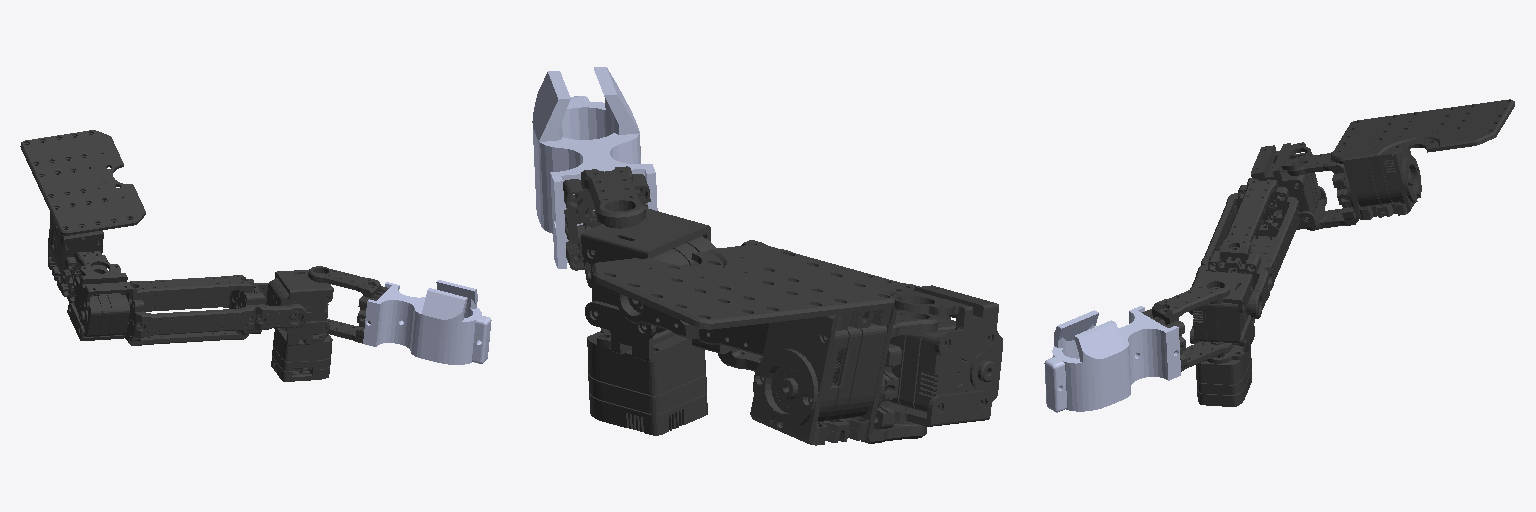
The robot description file, URDF, robot "ping-pong":
<?xml version="1.0" encoding="utf-8"?>
<!-- This URDF was automatically created by SolidWorks to URDF Exporter! Originally created by [author] ([email redacted]) 
     Commit Version:   Build Version: 1.6.9102.25287
     For more information, please see http://wiki.ros.org/sw_urdf_exporter -->
<robot
  name="ping-pong">
  <link
    name="base_link">
    <inertial>
      <origin
        xyz="0.236974030747518 0.198814117310018 -0.0472840790155531"
        rpy="0 0 0" />
      <mass
        value="0.0468580123048407" />
      <inertia
        ixx="1.54404131998268E-05"
        ixy="-6.36178566521936E-07"
        ixz="1.49119062174586E-06"
        iyy="1.79723392941374E-05"
        iyz="2.33806617611275E-06"
        izz="9.28318321799851E-06" />
    </inertial>
    <visual>
      <origin
        xyz="0 0 0"
        rpy="0 0 0" />
      <geometry>
        <mesh
          filename="package://ping-pong/meshes/base_link.STL" />
      </geometry>
      <material
        name="">
        <color
          rgba="0.298039215686275 0.298039215686275 0.298039215686275 1" />
      </material>
    </visual>
    <collision>
      <origin
        xyz="0 0 0"
        rpy="0 0 0" />
      <geometry>
        <mesh
          filename="package://ping-pong/meshes/base_link.STL" />
      </geometry>
    </collision>
  </link>
  <link
    name="upper_shoulder">
    <inertial>
      <origin
        xyz="-0.0154277085596627 -0.00223358541973112 4.50695554159442E-05"
        rpy="0 0 0" />
      <mass
        value="0.0335476362175246" />
      <inertia
        ixx="3.45395074153155E-06"
        ixy="9.45834023407956E-09"
        ixz="2.11997951639057E-08"
        iyy="4.64648612211524E-06"
        iyz="1.21543964032148E-08"
        izz="3.81490040295177E-06" />
    </inertial>
    <visual>
      <origin
        xyz="0 0 0"
        rpy="0 0 0" />
      <geometry>
        <mesh
          filename="package://ping-pong/meshes/upper_shoulder.STL" />
      </geometry>
      <material
        name="">
        <color
          rgba="0.298039215686275 0.298039215686275 0.298039215686275 1" />
      </material>
    </visual>
    <collision>
      <origin
        xyz="0 0 0"
        rpy="0 0 0" />
      <geometry>
        <mesh
          filename="package://ping-pong/meshes/upper_shoulder.STL" />
      </geometry>
    </collision>
  </link>
  <joint
    name="upper_shoulder"
    type="continuous">
    <origin
      xyz="0.2173 -0.020918 0.16517"
      rpy="-1.6552 0.24811 -1.7979" />
    <parent
      link="base_link" />
    <child
      link="upper_shoulder" />
    <axis
      xyz="1 0 0" />
  </joint>
  <link
    name="lower_shoulder">
    <inertial>
      <origin
        xyz="-5.97024606077967E-05 -2.62163623037243E-05 0.0861382562708247"
        rpy="0 0 0" />
      <mass
        value="0.0576719523187774" />
      <inertia
        ixx="1.71208966848189E-05"
        ixy="-1.21362897592568E-08"
        ixz="-1.02969443818026E-08"
        iyy="1.64179788574469E-05"
        iyz="2.12100717514079E-08"
        izz="4.45014104981362E-06" />
    </inertial>
    <visual>
      <origin
        xyz="0 0 0"
        rpy="0 0 0" />
      <geometry>
        <mesh
          filename="package://ping-pong/meshes/lower_shoulder.STL" />
      </geometry>
      <material
        name="">
        <color
          rgba="0.298039215686275 0.298039215686275 0.298039215686275 1" />
      </material>
    </visual>
    <collision>
      <origin
        xyz="0 0 0"
        rpy="0 0 0" />
      <geometry>
        <mesh
          filename="package://ping-pong/meshes/lower_shoulder.STL" />
      </geometry>
    </collision>
  </link>
  <joint
    name="lower_shoulder"
    type="continuous">
    <origin
      xyz="-0.00211697862590773 -0.002599999999995 0.00924978024452464"
      rpy="0 0 -1.79186376010431" />
    <parent
      link="upper_shoulder" />
    <child
      link="lower_shoulder" />
    <axis
      xyz="0 0 1" />
  </joint>
  <link
    name="upper_hand">
    <inertial>
      <origin
        xyz="0.00320599776801292 0.023294358287288 0.00476029253124649"
        rpy="0 0 0" />
      <mass
        value="0.031305818017557" />
      <inertia
        ixx="3.97075172174144E-06"
        ixy="2.25290319393319E-08"
        ixz="3.40259465463214E-07"
        iyy="4.16713432161534E-06"
        iyz="-1.85633135872339E-09"
        izz="3.2938792496872E-06" />
    </inertial>
    <visual>
      <origin
        xyz="0 0 0"
        rpy="0 0 0" />
      <geometry>
        <mesh
          filename="package://ping-pong/meshes/upper_hand.STL" />
      </geometry>
      <material
        name="">
        <color
          rgba="0.298039215686275 0.298039215686275 0.298039215686275 1" />
      </material>
    </visual>
    <collision>
      <origin
        xyz="0 0 0"
        rpy="0 0 0" />
      <geometry>
        <mesh
          filename="package://ping-pong/meshes/upper_hand.STL" />
      </geometry>
    </collision>
  </link>
  <joint
    name="upper_hand"
    type="continuous">
    <origin
      xyz="0.000112596657948771 0 0.132750131806573"
      rpy="0.00111275867836401 0.704035778292276 1.57151661473209" />
    <parent
      link="lower_shoulder" />
    <child
      link="upper_hand" />
    <axis
      xyz="0 1 0" />
  </joint>
  <link
    name="hand">
    <inertial>
      <origin
        xyz="0.0321731917729678 0.0165070943385693 0.0170774263212789"
        rpy="0 0 0" />
      <mass
        value="0.0364485484086937" />
      <inertia
        ixx="4.87558289521533E-06"
        ixy="-6.72451244131164E-10"
        ixz="9.10211126920207E-07"
        iyy="1.9761361014673E-05"
        iyz="9.25529998709742E-10"
        izz="1.6594817641288E-05" />
    </inertial>
    <visual>
      <origin
        xyz="0 0 0"
        rpy="0 0 0" />
      <geometry>
        <mesh
          filename="package://ping-pong/meshes/hand.STL" />
      </geometry>
      <material
        name="">
        <color
          rgba="0.792156862745098 0.819607843137255 0.933333333333333 1" />
      </material>
    </visual>
    <collision>
      <origin
        xyz="0 0 0"
        rpy="0 0 0" />
      <geometry>
        <mesh
          filename="package://ping-pong/meshes/hand.STL" />
      </geometry>
    </collision>
  </link>
  <joint
    name="hand"
    type="fixed">
    <origin
      xyz="-0.0166 0.012495 0.1085"
      rpy="1.5708 1.5708 0" />
    <parent
      link="upper_hand" />
    <child
      link="hand" />
    <axis
      xyz="0 0 0" />
  </joint>
</robot>

--- Facts derived from the render (not from the file) ---
3 views of the same robot in one strip: view 1: azimuth 30°, elevation 25°; view 2: azimuth 150°, elevation 25°; view 3: azimuth 270°, elevation 25° (orthographic).
Model ping-pong with 5 links and 4 joints (3 continuous, 1 fixed), rooted at base_link, posed every joint at zero.
Links seen in each view (by area): view 1: lower_shoulder, base_link, hand, upper_shoulder, upper_hand; view 2: base_link, upper_shoulder, upper_hand, lower_shoulder, hand; view 3: lower_shoulder, base_link, hand, upper_hand, upper_shoulder.
Link boxes in pixels (<box>): lower_shoulder: <box>125,270,333,345</box>; base_link: <box>20,130,145,289</box>; hand: <box>363,280,491,364</box>; upper_shoulder: <box>60,251,132,340</box>; upper_hand: <box>271,266,388,381</box>; base_link: <box>590,245,896,445</box>; upper_shoulder: <box>861,285,1002,443</box>; upper_hand: <box>563,166,707,435</box>; lower_shoulder: <box>581,208,950,371</box>; hand: <box>532,67,657,268</box>; lower_shoulder: <box>1189,178,1299,363</box>; base_link: <box>1331,99,1514,219</box>; hand: <box>1044,306,1180,412</box>; upper_hand: <box>1142,280,1251,406</box>; upper_shoulder: <box>1251,142,1358,230</box>.
Bounding box of the posed robot: 0.2295 × 0.2559 × 0.1285 m (x, y, z).
Meshes: 5 distinct files referenced, 5 mesh visuals loaded (5 binary STL).